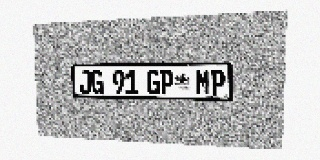1: (125, 70, 138, 94)
9: (112, 70, 125, 94)
G: (147, 70, 160, 95), (91, 70, 103, 94)
J: (79, 70, 91, 94)
M: (196, 69, 210, 95)
P: (210, 69, 225, 95), (160, 70, 173, 95)
